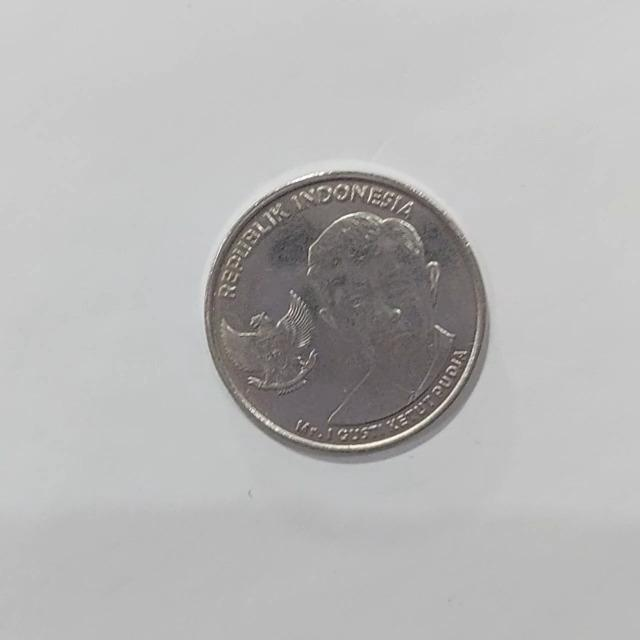Rp100: (202, 164, 489, 458)
